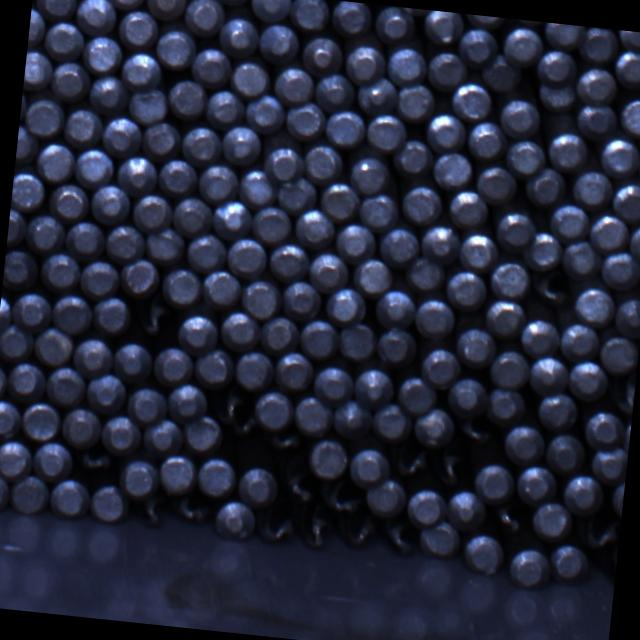tool: (350, 364, 396, 410), (256, 21, 302, 66), (175, 311, 220, 356), (572, 283, 616, 329), (306, 436, 351, 480), (153, 26, 197, 71), (218, 13, 262, 58), (72, 334, 116, 379), (502, 422, 546, 467), (301, 34, 346, 78), (529, 499, 573, 544), (342, 42, 387, 86), (446, 374, 491, 418), (170, 194, 214, 238), (62, 106, 106, 150), (99, 115, 143, 159), (444, 268, 488, 312), (348, 444, 392, 488), (566, 359, 610, 403), (424, 108, 468, 152), (399, 184, 443, 228), (562, 471, 606, 515), (418, 220, 462, 264), (582, 407, 626, 451), (597, 135, 640, 180), (272, 349, 315, 394), (449, 80, 494, 123), (373, 288, 418, 331), (156, 452, 199, 497), (413, 296, 456, 341), (373, 326, 418, 369), (220, 124, 263, 168), (196, 454, 239, 498), (62, 406, 105, 450), (308, 251, 351, 295), (140, 118, 183, 162), (50, 292, 94, 335), (167, 76, 210, 120), (301, 142, 344, 186), (131, 191, 175, 234), (196, 160, 239, 204), (125, 384, 169, 427), (72, 147, 116, 190), (49, 59, 92, 103), (23, 94, 66, 138), (284, 98, 328, 141), (446, 488, 489, 532), (84, 372, 128, 415), (218, 308, 262, 351), (190, 45, 233, 89), (214, 498, 257, 542), (89, 183, 132, 227), (192, 346, 235, 390), (421, 345, 464, 389), (210, 198, 253, 242), (116, 152, 160, 195), (165, 382, 208, 426), (355, 73, 399, 116), (560, 238, 603, 282), (362, 476, 407, 518), (44, 19, 87, 62), (370, 400, 413, 443), (502, 24, 545, 67), (21, 399, 64, 442), (336, 219, 379, 262), (44, 363, 87, 406), (386, 46, 429, 89), (226, 237, 269, 280), (200, 266, 243, 309), (152, 344, 195, 387), (514, 462, 557, 505), (119, 50, 162, 93), (101, 414, 143, 458), (324, 106, 368, 148), (276, 176, 320, 218), (365, 112, 409, 154), (9, 290, 53, 332), (394, 374, 438, 416), (34, 138, 76, 182), (472, 460, 514, 504), (476, 164, 520, 206), (546, 130, 588, 174), (412, 406, 454, 450), (268, 242, 312, 284), (112, 339, 154, 383), (312, 362, 354, 406), (238, 464, 280, 508), (232, 349, 274, 393), (320, 178, 362, 222), (292, 394, 334, 438), (48, 476, 90, 520), (292, 206, 336, 248), (575, 65, 619, 107), (454, 324, 496, 368), (462, 532, 504, 576), (444, 188, 488, 230), (508, 544, 550, 588), (548, 540, 590, 584), (536, 388, 580, 430), (520, 314, 564, 356), (492, 208, 536, 250), (24, 211, 67, 253), (8, 474, 51, 516), (31, 324, 74, 366), (280, 278, 322, 321), (357, 189, 400, 231), (33, 440, 75, 483), (588, 212, 631, 254), (245, 92, 288, 134), (315, 72, 358, 114), (180, 123, 222, 166), (47, 180, 90, 222), (426, 49, 468, 92), (549, 200, 592, 242), (597, 334, 640, 376), (488, 346, 530, 389), (252, 388, 294, 431), (161, 265, 204, 307), (331, 398, 374, 440), (92, 293, 134, 336), (352, 256, 395, 298), (187, 233, 230, 275), (235, 168, 278, 210), (378, 224, 421, 266), (523, 164, 566, 206), (456, 26, 499, 68), (572, 168, 615, 210), (545, 431, 587, 474), (250, 203, 294, 244), (274, 65, 318, 106), (430, 148, 474, 189), (457, 228, 498, 272), (80, 258, 122, 300), (182, 412, 224, 454), (404, 486, 446, 528), (204, 86, 246, 128), (40, 250, 82, 292), (522, 230, 564, 272), (116, 456, 158, 498), (298, 318, 340, 360), (240, 278, 282, 320), (498, 96, 540, 138), (117, 7, 159, 49), (530, 354, 572, 396), (6, 360, 48, 402), (120, 256, 162, 298), (104, 223, 146, 265), (348, 154, 390, 196), (88, 72, 130, 114), (259, 315, 301, 357), (558, 320, 600, 362), (64, 218, 106, 260), (484, 296, 526, 338), (392, 136, 434, 178), (467, 117, 508, 160), (326, 284, 369, 325), (481, 51, 524, 92), (143, 226, 187, 266), (418, 520, 462, 560), (574, 98, 618, 138), (156, 156, 198, 197), (396, 80, 438, 121), (599, 248, 640, 290), (230, 59, 272, 100), (337, 321, 378, 363), (142, 417, 184, 458), (484, 383, 526, 424), (126, 84, 169, 124), (2, 246, 41, 290), (82, 34, 124, 74), (88, 482, 128, 524), (505, 138, 547, 178), (488, 259, 530, 299), (374, 5, 416, 44), (183, 0, 227, 37), (329, 0, 373, 37), (74, 0, 119, 36), (264, 144, 306, 182), (405, 254, 447, 292), (590, 444, 628, 486), (10, 170, 47, 212), (420, 9, 462, 46), (536, 48, 578, 85), (0, 436, 35, 480), (0, 320, 36, 361), (579, 26, 619, 62), (22, 48, 54, 92), (610, 180, 640, 225), (289, 0, 332, 31), (611, 49, 640, 90), (613, 293, 640, 337), (544, 22, 586, 50), (14, 124, 40, 167), (250, 0, 293, 23), (0, 398, 22, 441), (145, 0, 188, 22), (618, 96, 640, 139), (6, 206, 28, 248), (27, 6, 47, 51), (35, 0, 77, 18), (462, 13, 508, 28), (0, 286, 14, 333), (609, 478, 625, 518), (628, 220, 640, 262), (617, 30, 640, 51), (19, 83, 29, 125), (104, 0, 148, 9), (0, 471, 9, 512), (0, 360, 8, 402), (211, 0, 251, 5)
tool_b: (294, 508, 334, 553), (525, 270, 570, 310), (277, 466, 319, 508), (134, 298, 174, 342), (578, 512, 621, 552), (172, 492, 216, 530), (379, 519, 420, 559), (320, 477, 363, 515), (212, 390, 255, 428), (432, 448, 471, 488), (255, 509, 295, 546), (73, 443, 115, 478), (132, 492, 170, 530), (454, 414, 494, 450), (490, 502, 529, 538), (394, 444, 432, 480), (608, 367, 636, 415), (262, 422, 303, 454), (341, 515, 377, 550)
